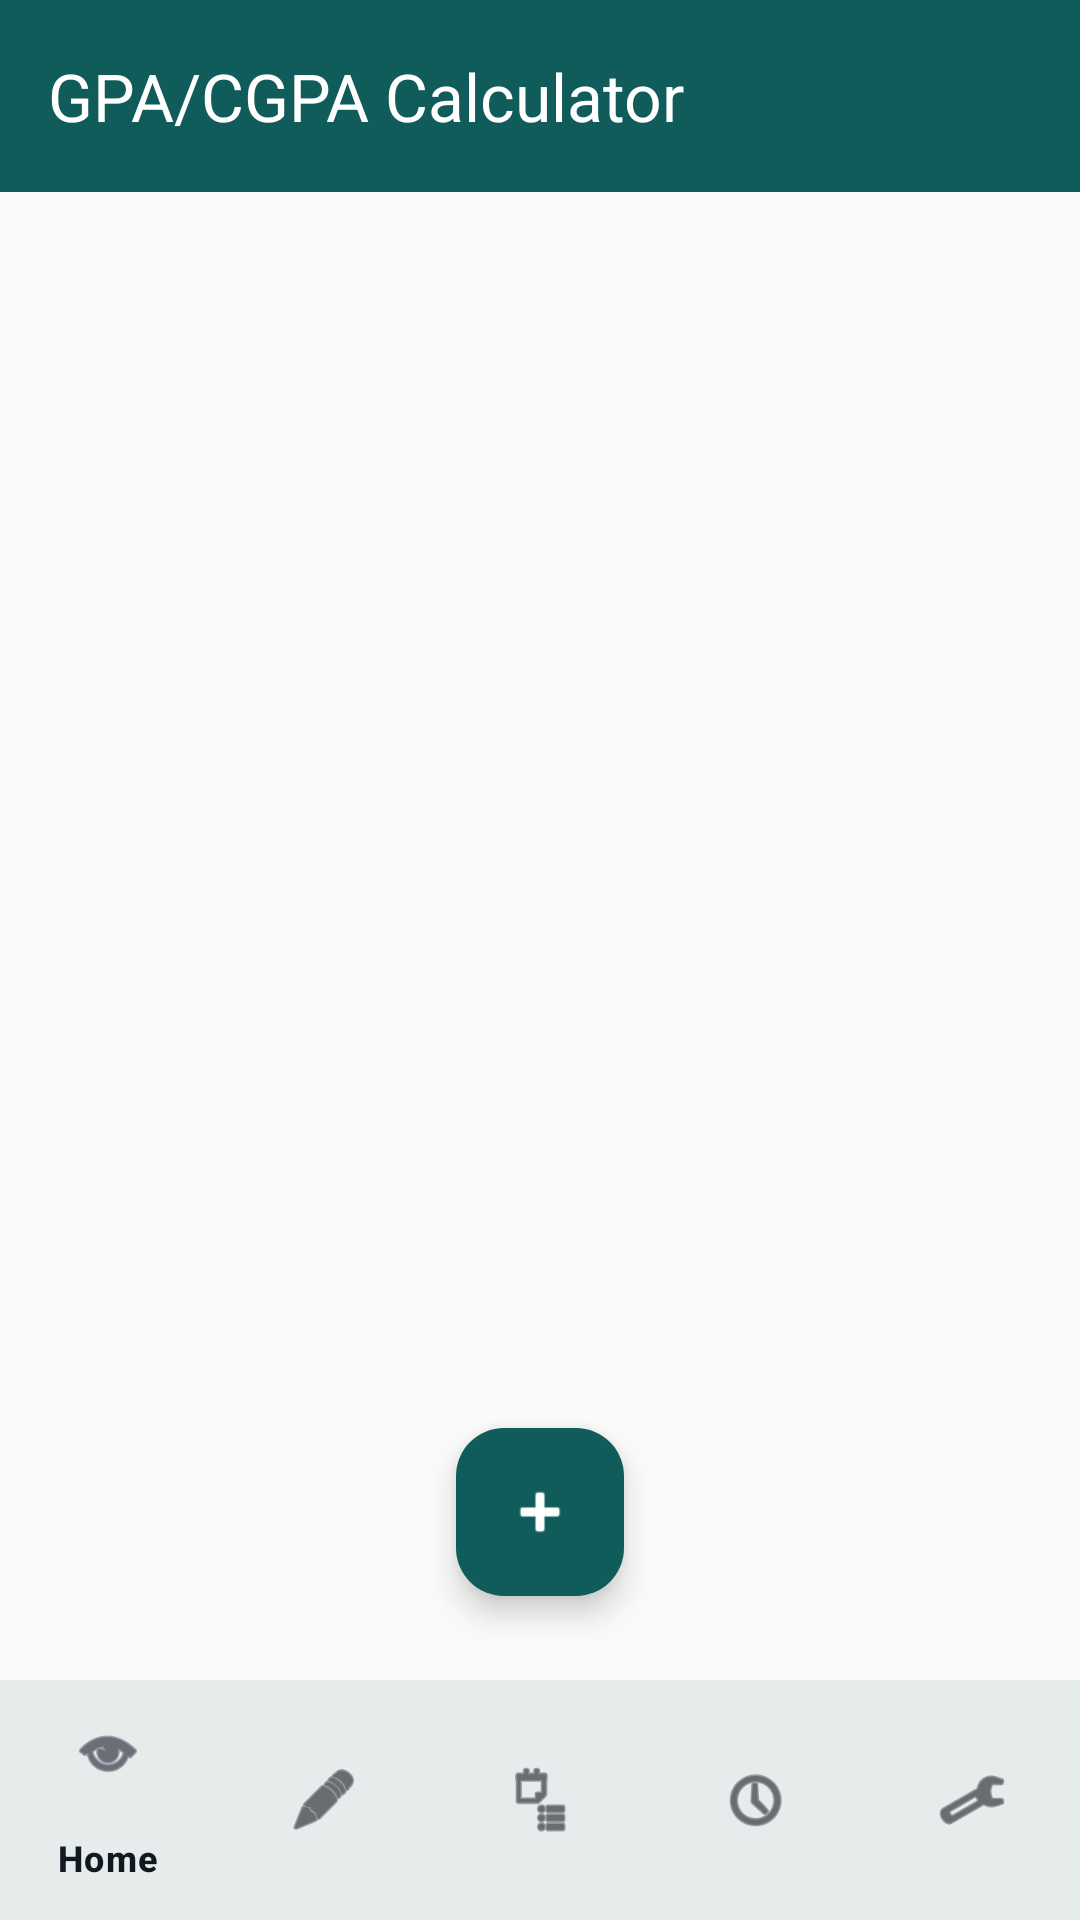

Icons on this 1080*1920 Android screen, each with the point to tap as point (x, y):
Add record: point (540, 1512)
